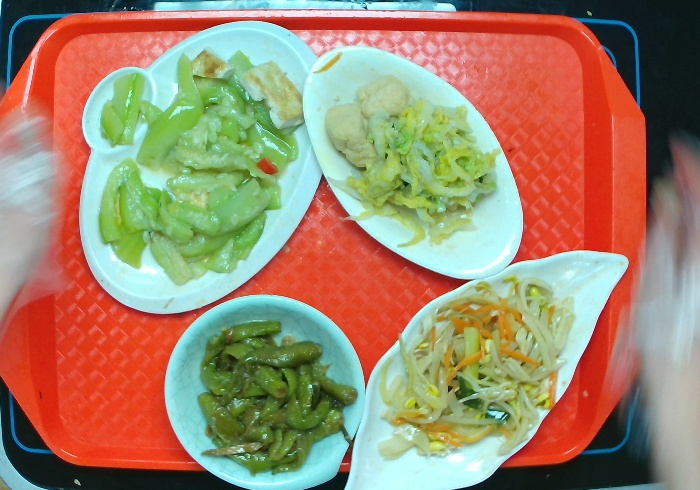RJxy-Bai_Se_Tuo_Yuan: (298, 34, 526, 286)
RJxy-Shu_Ye_Pan: (336, 242, 633, 490)
RJxy-Xiao_Jiao_Yuan_Wan: (162, 284, 369, 490)
RJxy-Zhan_Liao_Pan: (68, 17, 333, 321)
